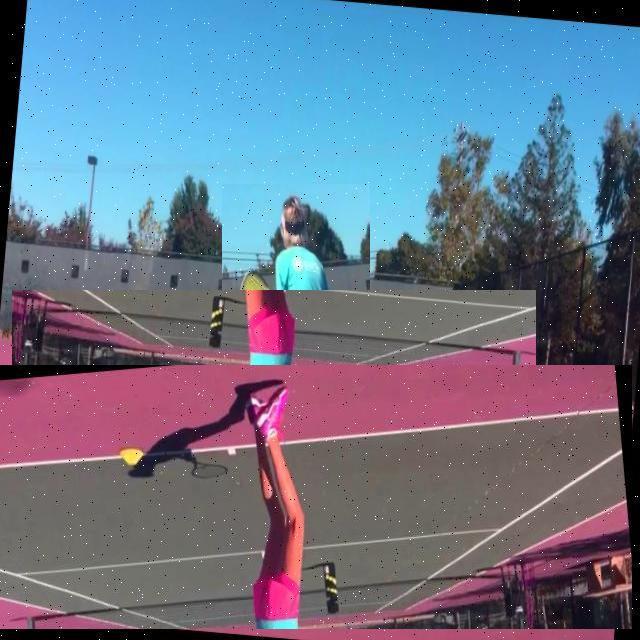court: (0, 365, 632, 629)
net: (12, 290, 536, 438)
player: (222, 185, 370, 622)
